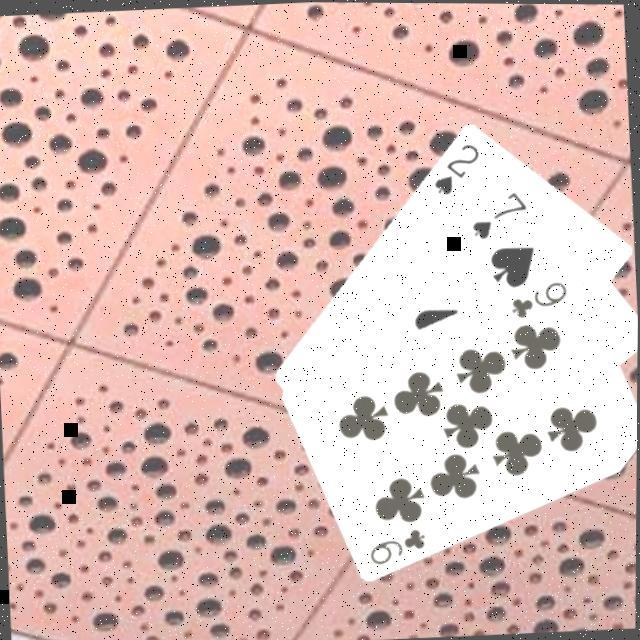2S: (427, 136, 484, 197)
7S: (466, 185, 531, 242)
9C: (505, 275, 571, 320), (365, 523, 431, 567)
